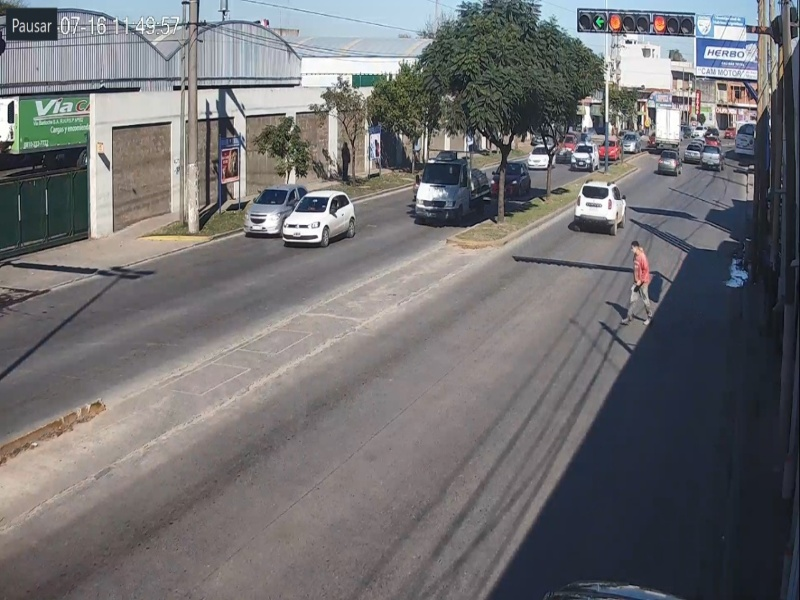person: (621, 241, 653, 325)
